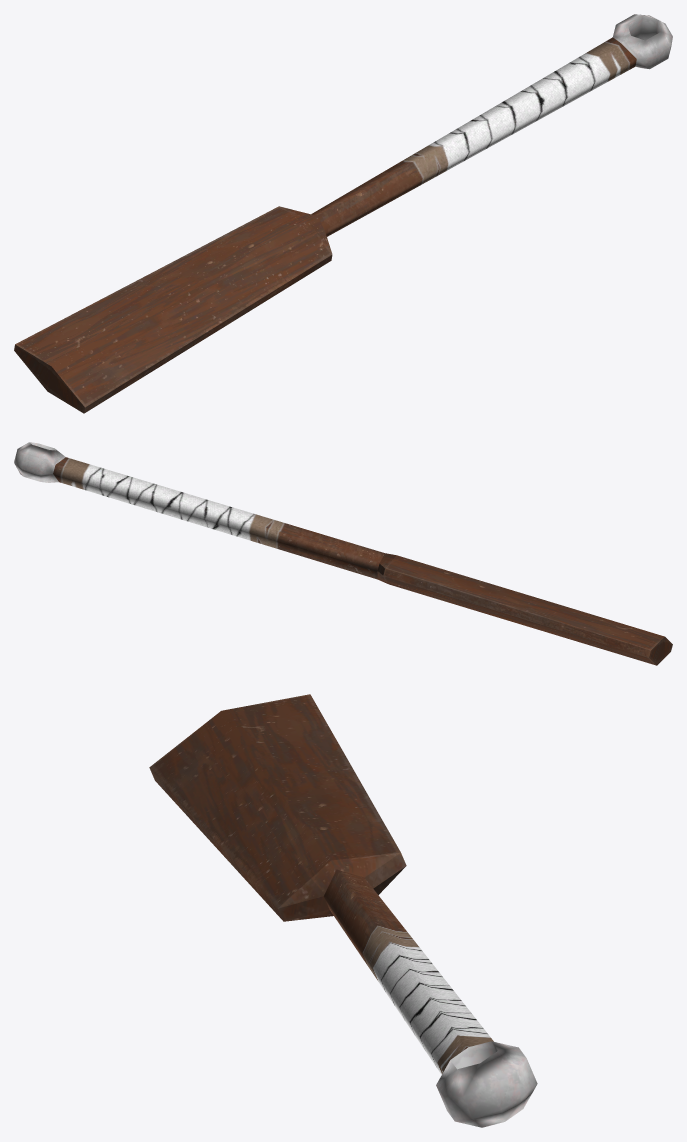
Rendered from weapon-base.glb.
3 renders of one model, top to bottom at view 1: azimuth 30°, elevation 25°; view 2: azimuth 150°, elevation 25°; view 3: azimuth 270°, elevation 25°, orthographic. The views are drawn at different scales.
Size of the model in its own units: 1.34 by 0.2935 by 0.383.
1 material, 1 textured.
